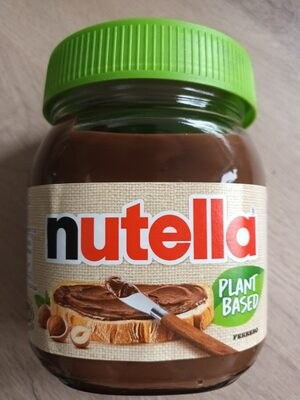Nutella Plant-Based: (15, 20, 285, 380)
